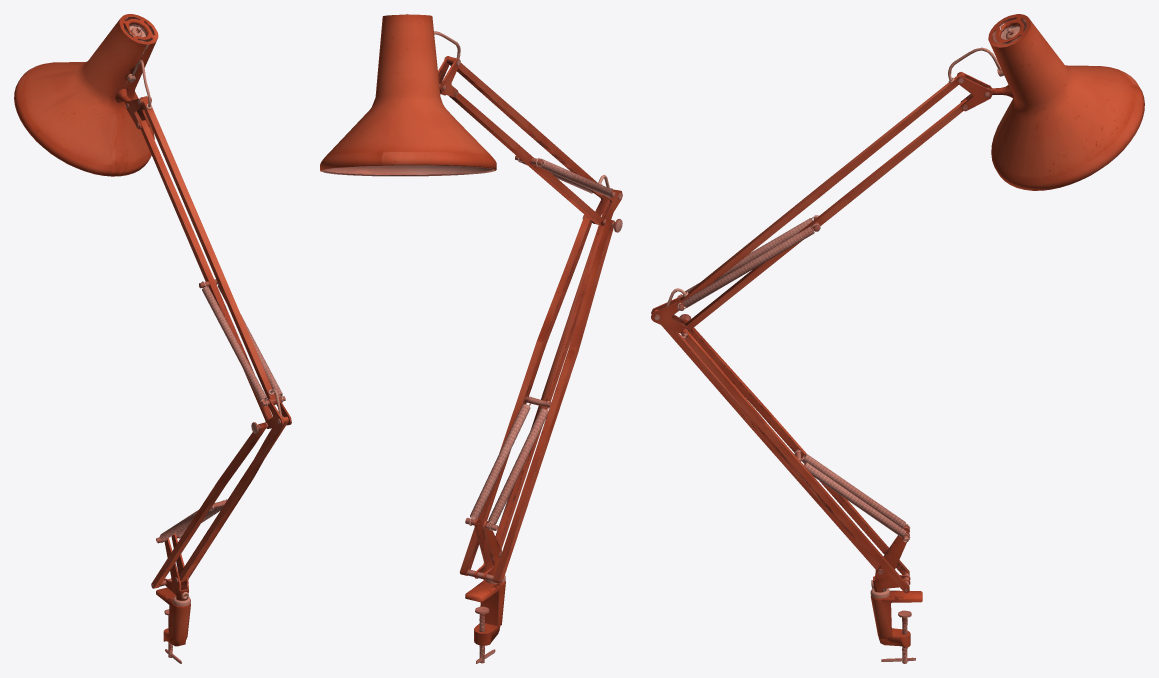
Rendered from bench.glb.
The picture shows the model from 3 angles, left to right: view 1: azimuth 30°, elevation 25°; view 2: azimuth 150°, elevation 25°; view 3: azimuth 270°, elevation 25°; orthographic projection. The views are drawn at different scales.
Parts seen in each view (by area): view 1: desk_lamp_arm_01; view 2: desk_lamp_arm_01; view 3: desk_lamp_arm_01.
Boxes of the visible parts, x1,y1,x2,y2 form: desk_lamp_arm_01: (14, 14, 291, 663); desk_lamp_arm_01: (320, 14, 622, 663); desk_lamp_arm_01: (651, 14, 1144, 663).
Size of the model in its own units: 0.2017 by 0.8926 by 0.6139.
Materials: 2 (1 with a texture image).
